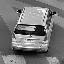mobil: (8, 5, 58, 52)
